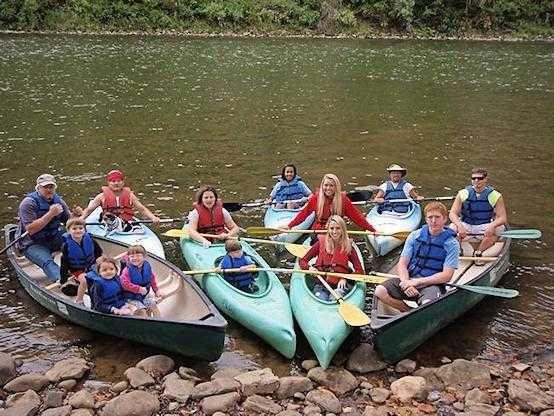kayak: (3, 225, 227, 362), (371, 234, 519, 364), (172, 230, 297, 360), (287, 241, 370, 369), (85, 216, 165, 261), (363, 199, 422, 256)
